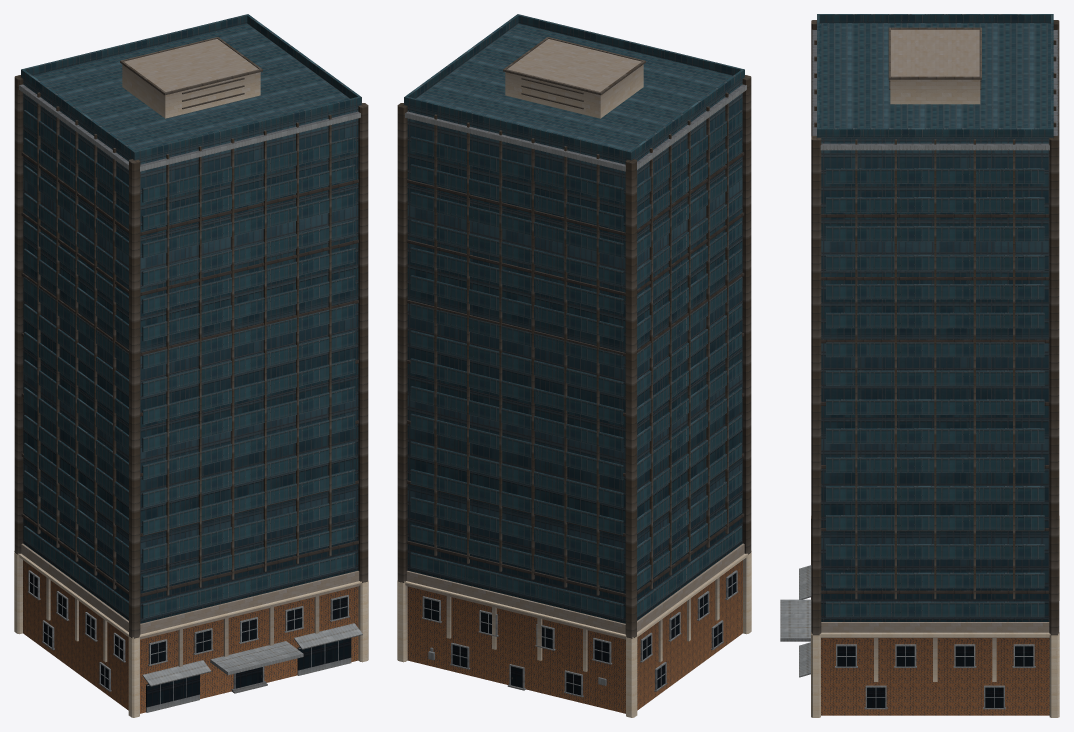
File: cass-corridor-tower_lod0.gltf
The picture shows the model from 3 angles, left to right: view 1: azimuth 30°, elevation 25°; view 2: azimuth 150°, elevation 25°; view 3: azimuth 270°, elevation 25°; orthographic projection. The views are drawn at different scales.
Visible parts, largest first — view 1: cass-corridor-tower_upper, cass-corridor-tower_fen_07-glass-curtain-blue_0, cass-corridor-tower__v4_metal_detail, cass-corridor-tower__v4_stone_detail, cass-corridor-tower_base, cass-corridor-tower_fen_07-glass-curtain-blue_2_t, cass-corridor-tower_fen_14-steel-panel_1, cass-corridor-tower__cornice, cass-corridor-tower__parapet_front, cass-corridor-tower__parapet_back, cass-corridor-tower__canopy, cass-corridor-tower__parapet_left (+3 smaller); view 2: cass-corridor-tower_upper, cass-corridor-tower_fen_07-glass-curtain-blue_0, cass-corridor-tower__v4_metal_detail, cass-corridor-tower_base, cass-corridor-tower__v4_stone_detail, cass-corridor-tower_fen_14-steel-panel_1, cass-corridor-tower_fen_07-glass-curtain-blue_2_t, cass-corridor-tower__cornice, cass-corridor-tower__parapet_back, cass-corridor-tower__parapet_front, cass-corridor-tower__parapet_left, cass-corridor-tower__parapet_right; view 3: cass-corridor-tower_upper, cass-corridor-tower_fen_07-glass-curtain-blue_0, cass-corridor-tower__v4_metal_detail, cass-corridor-tower_base, cass-corridor-tower__v4_stone_detail, cass-corridor-tower__cornice, cass-corridor-tower__parapet_right, cass-corridor-tower__parapet_left, cass-corridor-tower_fen_07-glass-curtain-blue_2_t, cass-corridor-tower_fen_14-steel-panel_1, cass-corridor-tower__canopy.
Part boxes in pixels (x1=…): cass-corridor-tower_upper: x1=23, y1=23, x2=358, y2=623; cass-corridor-tower_fen_07-glass-curtain-blue_0: x1=24, y1=110, x2=355, y2=618; cass-corridor-tower__v4_metal_detail: x1=14, y1=37, x2=368, y2=638; cass-corridor-tower__v4_stone_detail: x1=14, y1=39, x2=368, y2=717; cass-corridor-tower_base: x1=23, y1=560, x2=358, y2=713; cass-corridor-tower_fen_07-glass-curtain-blue_2_t: x1=30, y1=573, x2=351, y2=707; cass-corridor-tower_fen_14-steel-panel_1: x1=27, y1=570, x2=351, y2=712; cass-corridor-tower__cornice: x1=19, y1=84, x2=360, y2=171; cass-corridor-tower__parapet_front: x1=133, y1=96, x2=361, y2=160; cass-corridor-tower__parapet_back: x1=21, y1=14, x2=248, y2=77; cass-corridor-tower__canopy: x1=210, y1=641, x2=303, y2=675; cass-corridor-tower__parapet_left: x1=22, y1=70, x2=134, y2=158; cass-corridor-tower_upper: x1=407, y1=23, x2=742, y2=623; cass-corridor-tower_fen_07-glass-curtain-blue_0: x1=410, y1=110, x2=741, y2=618; cass-corridor-tower__v4_metal_detail: x1=397, y1=37, x2=751, y2=638; cass-corridor-tower_base: x1=407, y1=560, x2=742, y2=713; cass-corridor-tower__v4_stone_detail: x1=397, y1=39, x2=751, y2=717; cass-corridor-tower_fen_14-steel-panel_1: x1=422, y1=570, x2=738, y2=697; cass-corridor-tower_fen_07-glass-curtain-blue_2_t: x1=424, y1=573, x2=735, y2=695; cass-corridor-tower__cornice: x1=405, y1=84, x2=746, y2=171; cass-corridor-tower__parapet_back: x1=404, y1=96, x2=632, y2=160; cass-corridor-tower__parapet_front: x1=517, y1=14, x2=744, y2=77; cass-corridor-tower__parapet_left: x1=631, y1=70, x2=743, y2=158; cass-corridor-tower__parapet_right: x1=406, y1=15, x2=518, y2=98; cass-corridor-tower_upper: x1=819, y1=23, x2=1050, y2=621; cass-corridor-tower_fen_07-glass-curtain-blue_0: x1=826, y1=168, x2=1044, y2=617; cass-corridor-tower__v4_metal_detail: x1=811, y1=20, x2=1059, y2=635; cass-corridor-tower_base: x1=821, y1=638, x2=1049, y2=715; cass-corridor-tower__v4_stone_detail: x1=811, y1=29, x2=1059, y2=717; cass-corridor-tower__cornice: x1=812, y1=29, x2=1058, y2=150; cass-corridor-tower__parapet_right: x1=819, y1=128, x2=1050, y2=137; cass-corridor-tower__parapet_left: x1=819, y1=14, x2=1050, y2=23; cass-corridor-tower_fen_07-glass-curtain-blue_2_t: x1=837, y1=646, x2=1033, y2=707; cass-corridor-tower_fen_14-steel-panel_1: x1=835, y1=644, x2=1035, y2=709; cass-corridor-tower__canopy: x1=780, y1=599, x2=811, y2=641.
Size of the model in its own units: 31.27 by 73.3 by 30.64.
